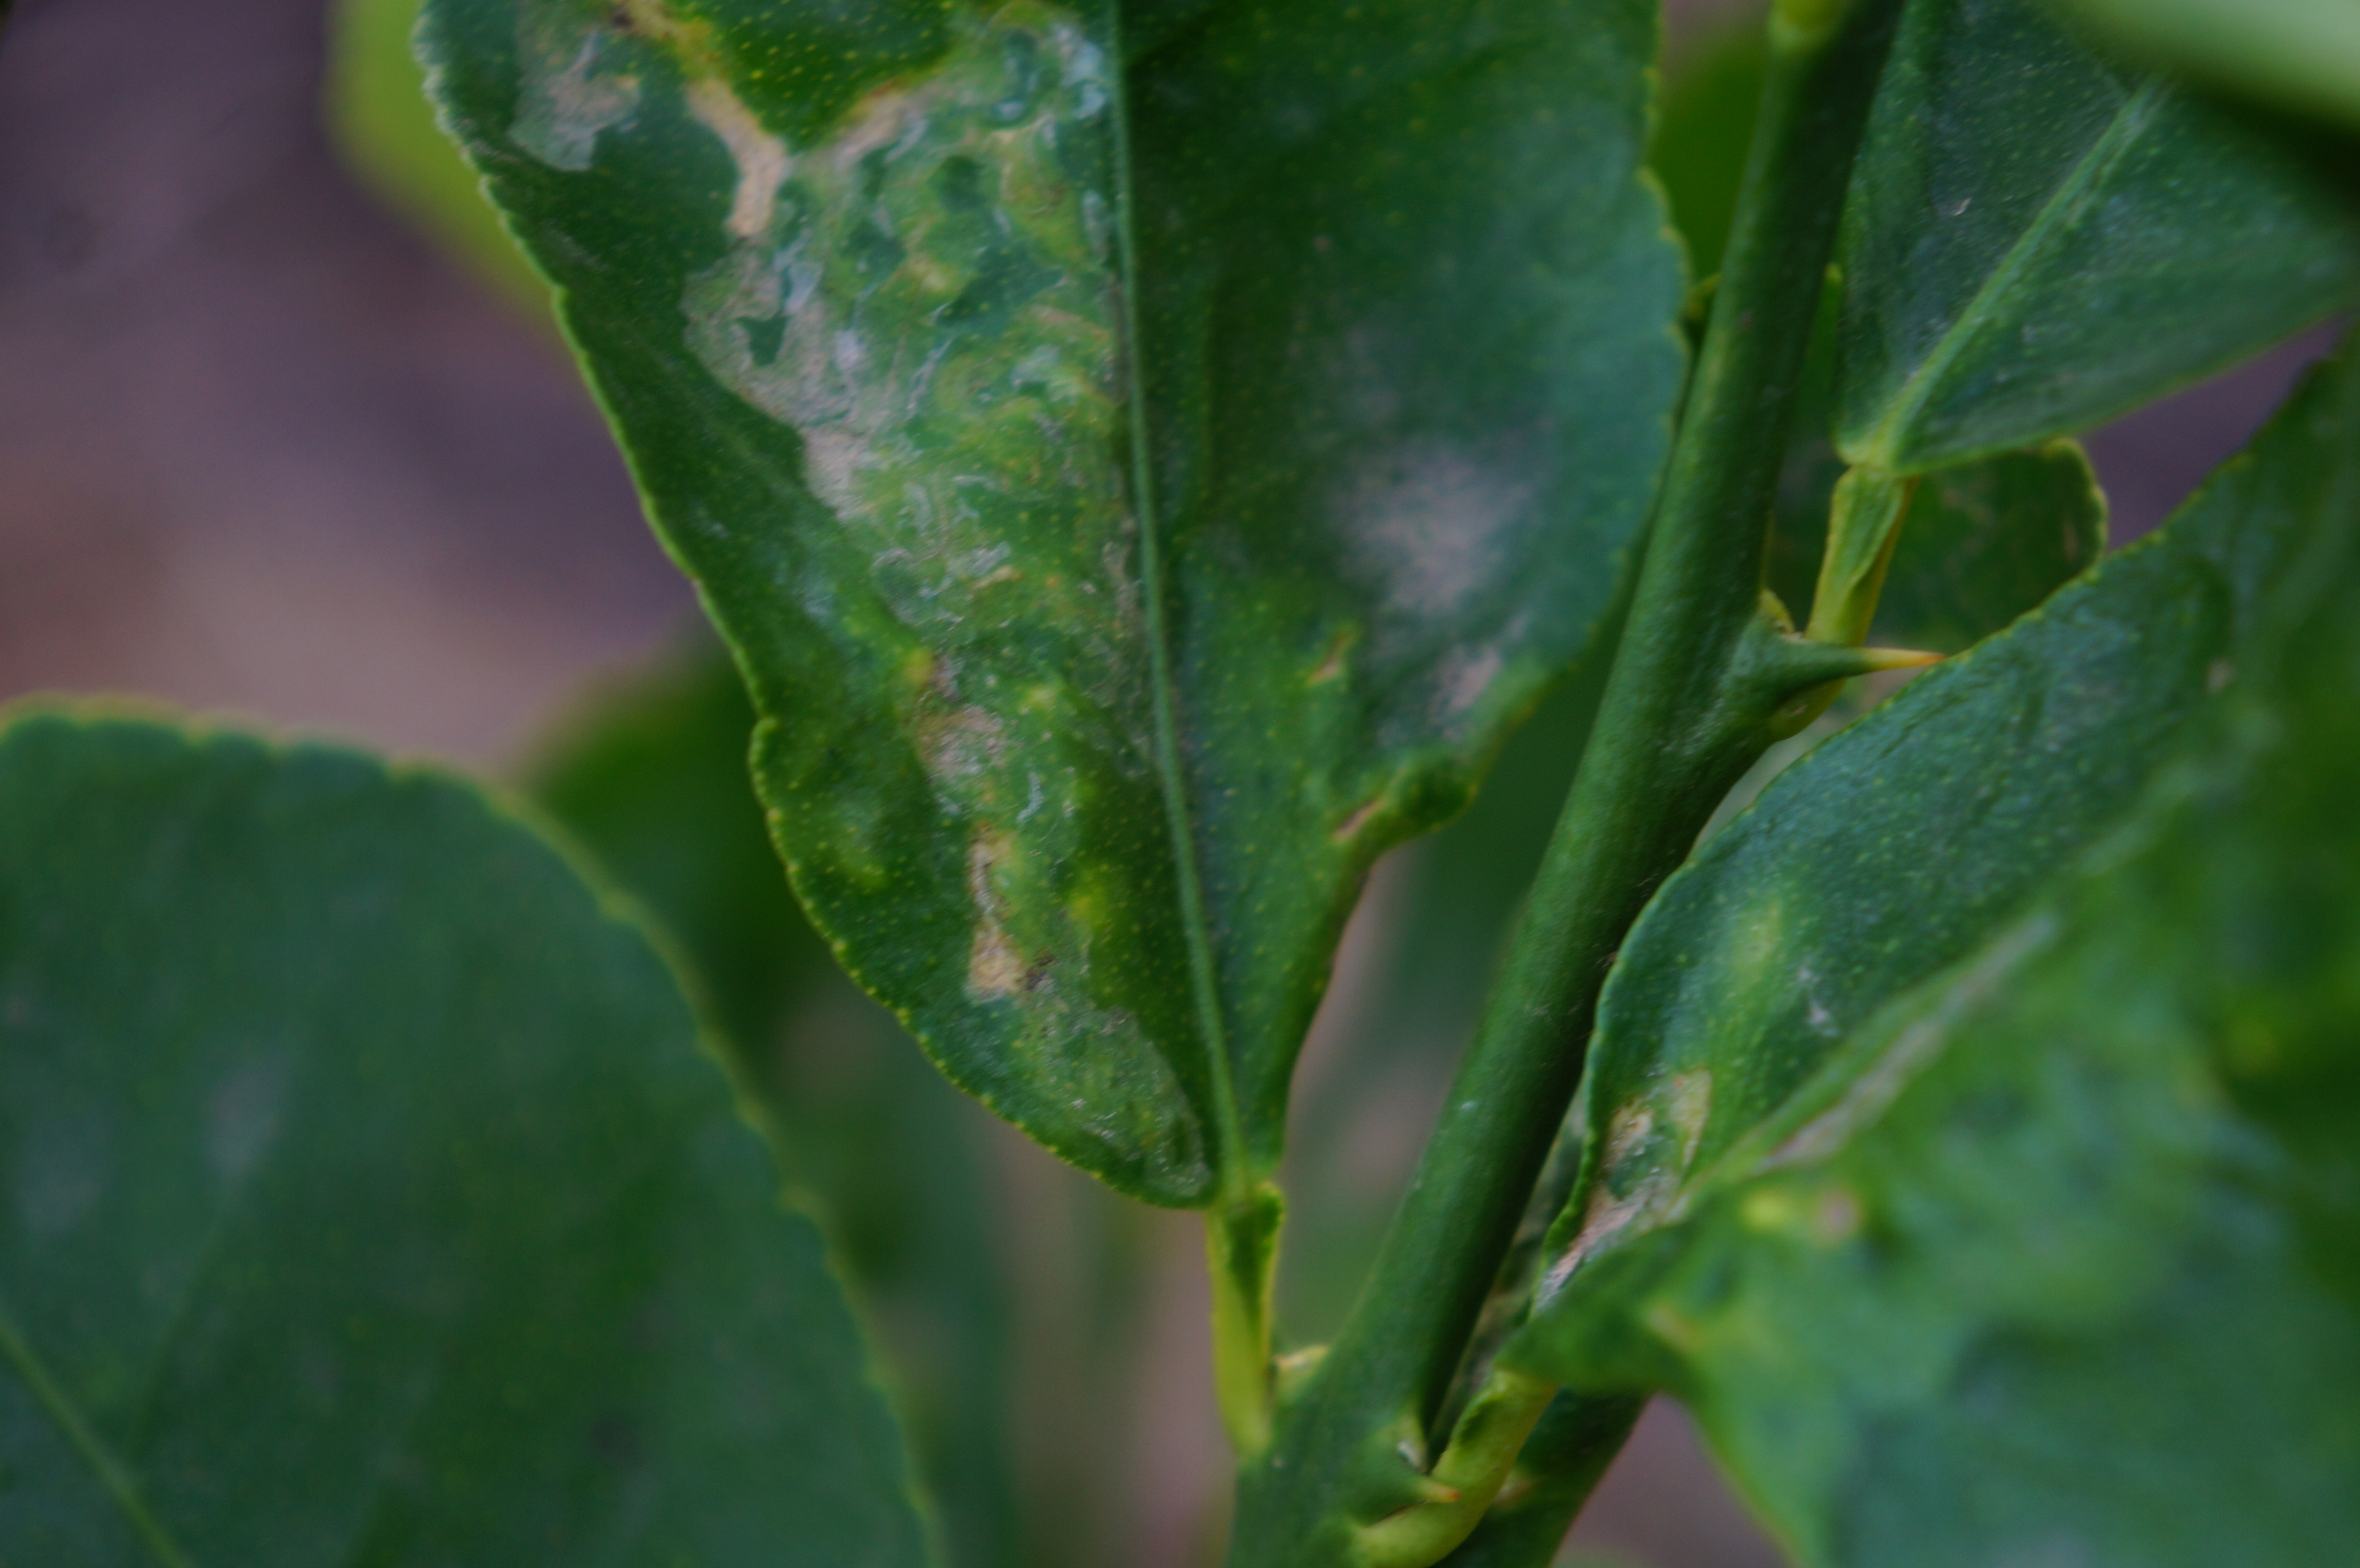damage: (656, 0, 1172, 1017)
